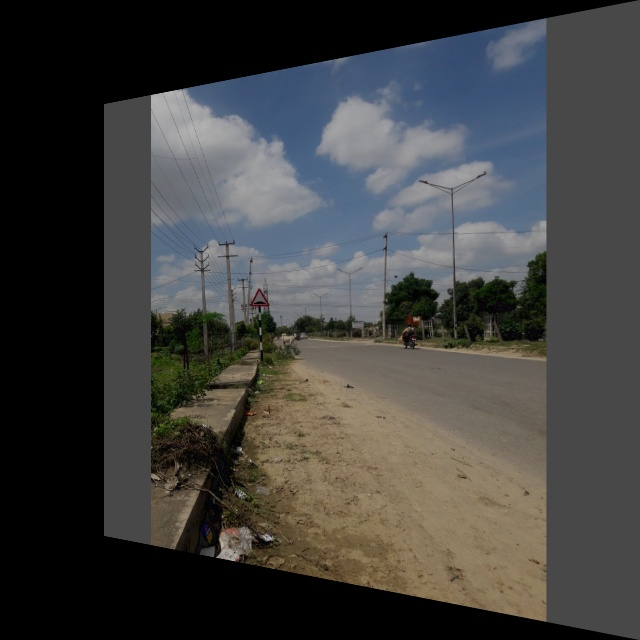Hump_or_Rough_Road: (247, 285, 272, 309)
